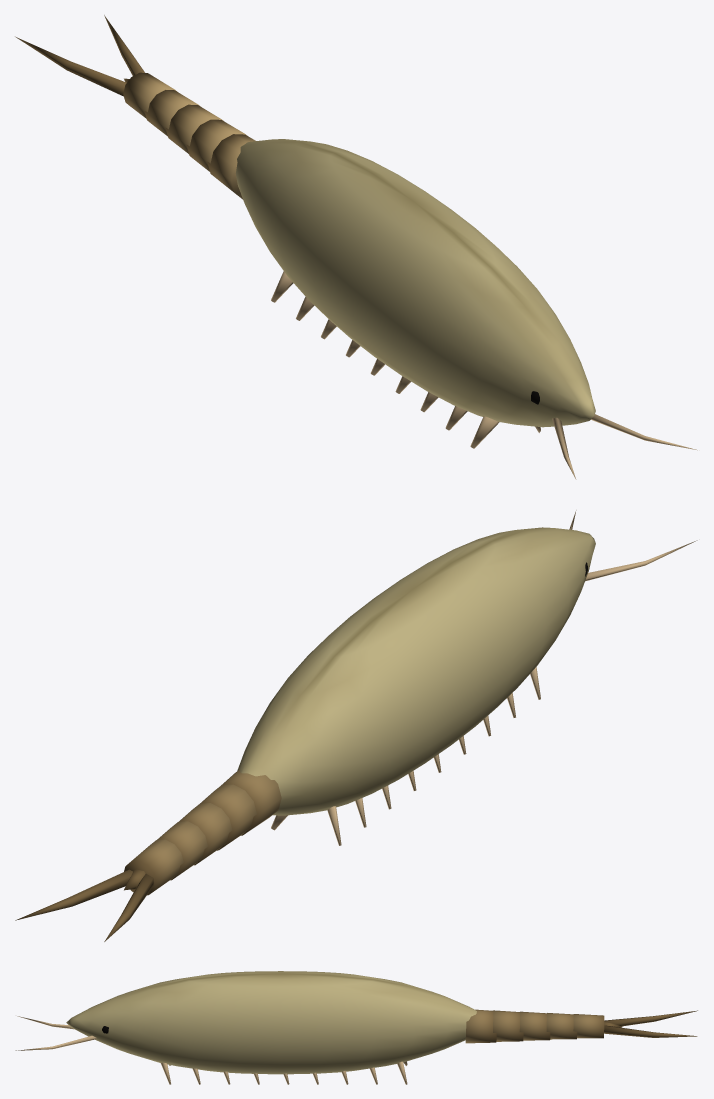
Rendered from CaryocarisWrightii.fbx.
The picture shows the model from 3 angles, top to bottom: view 1: azimuth 30°, elevation 25°; view 2: azimuth 150°, elevation 25°; view 3: azimuth 270°, elevation 25°; orthographic projection. The views are drawn at different scales.
Parts seen in each view (by area): view 1: CaryocarisWrightii; view 2: CaryocarisWrightii; view 3: CaryocarisWrightii.
Boxes of the visible parts, box(x1,y1,x2,y2) form: CaryocarisWrightii: box(15, 15, 697, 479); CaryocarisWrightii: box(15, 510, 697, 941); CaryocarisWrightii: box(15, 971, 697, 1084).
Bounding box in the file's own units: 0.22 × 0.292 × 1.79.
